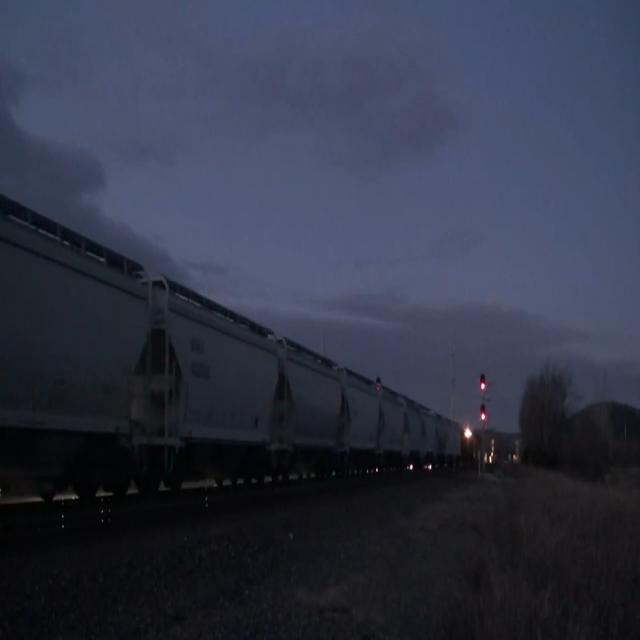hopper: (0, 173, 155, 526), (152, 261, 285, 491), (278, 325, 349, 491)
